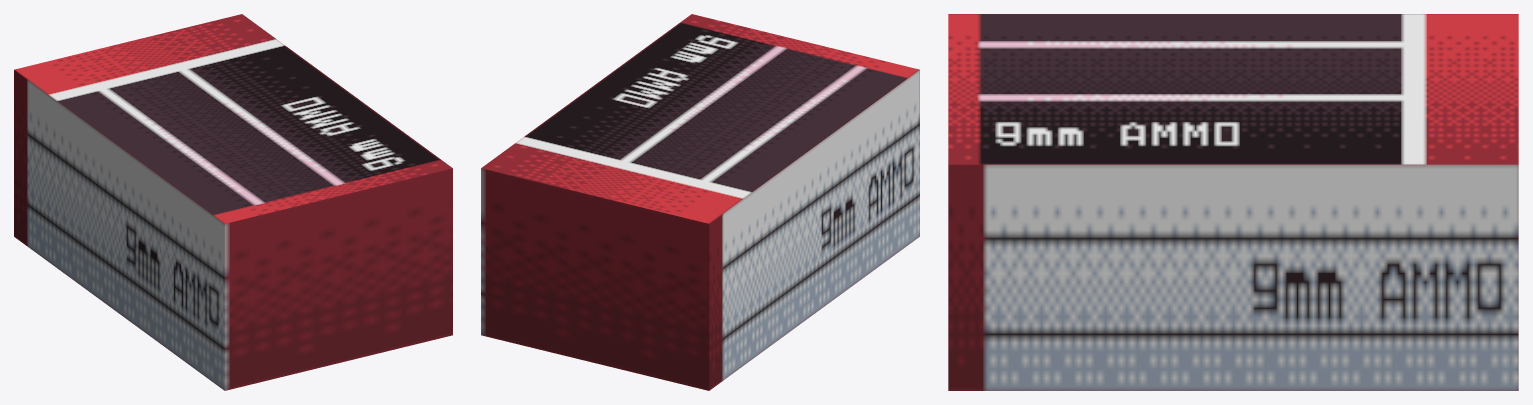
3 renders of one model, left to right at view 1: azimuth 30°, elevation 25°; view 2: azimuth 150°, elevation 25°; view 3: azimuth 270°, elevation 25°, orthographic. The views are drawn at different scales.
Parts seen in each view (by area): view 1: cube; view 2: cube; view 3: cube.
Part boxes in pixels (left/top/right/bottom): cube: left=14, top=14, right=452, bottom=390; cube: left=481, top=14, right=919, bottom=390; cube: left=948, top=14, right=1518, bottom=390.
Bounding box in the file's own units: 62.5 × 43.75 × 100.
Materials: 1 (1 with a texture image).
